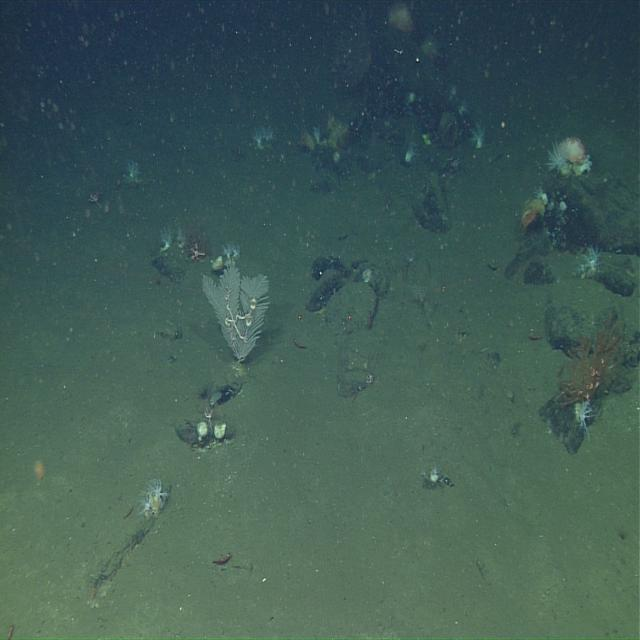Brittle Star: (187, 242, 209, 266)
Not Brittle Star: (201, 253, 272, 369), (145, 474, 171, 514), (578, 240, 605, 278), (468, 120, 489, 154), (209, 546, 235, 573), (136, 491, 156, 524), (250, 124, 271, 154), (123, 157, 143, 187), (157, 224, 175, 256)
